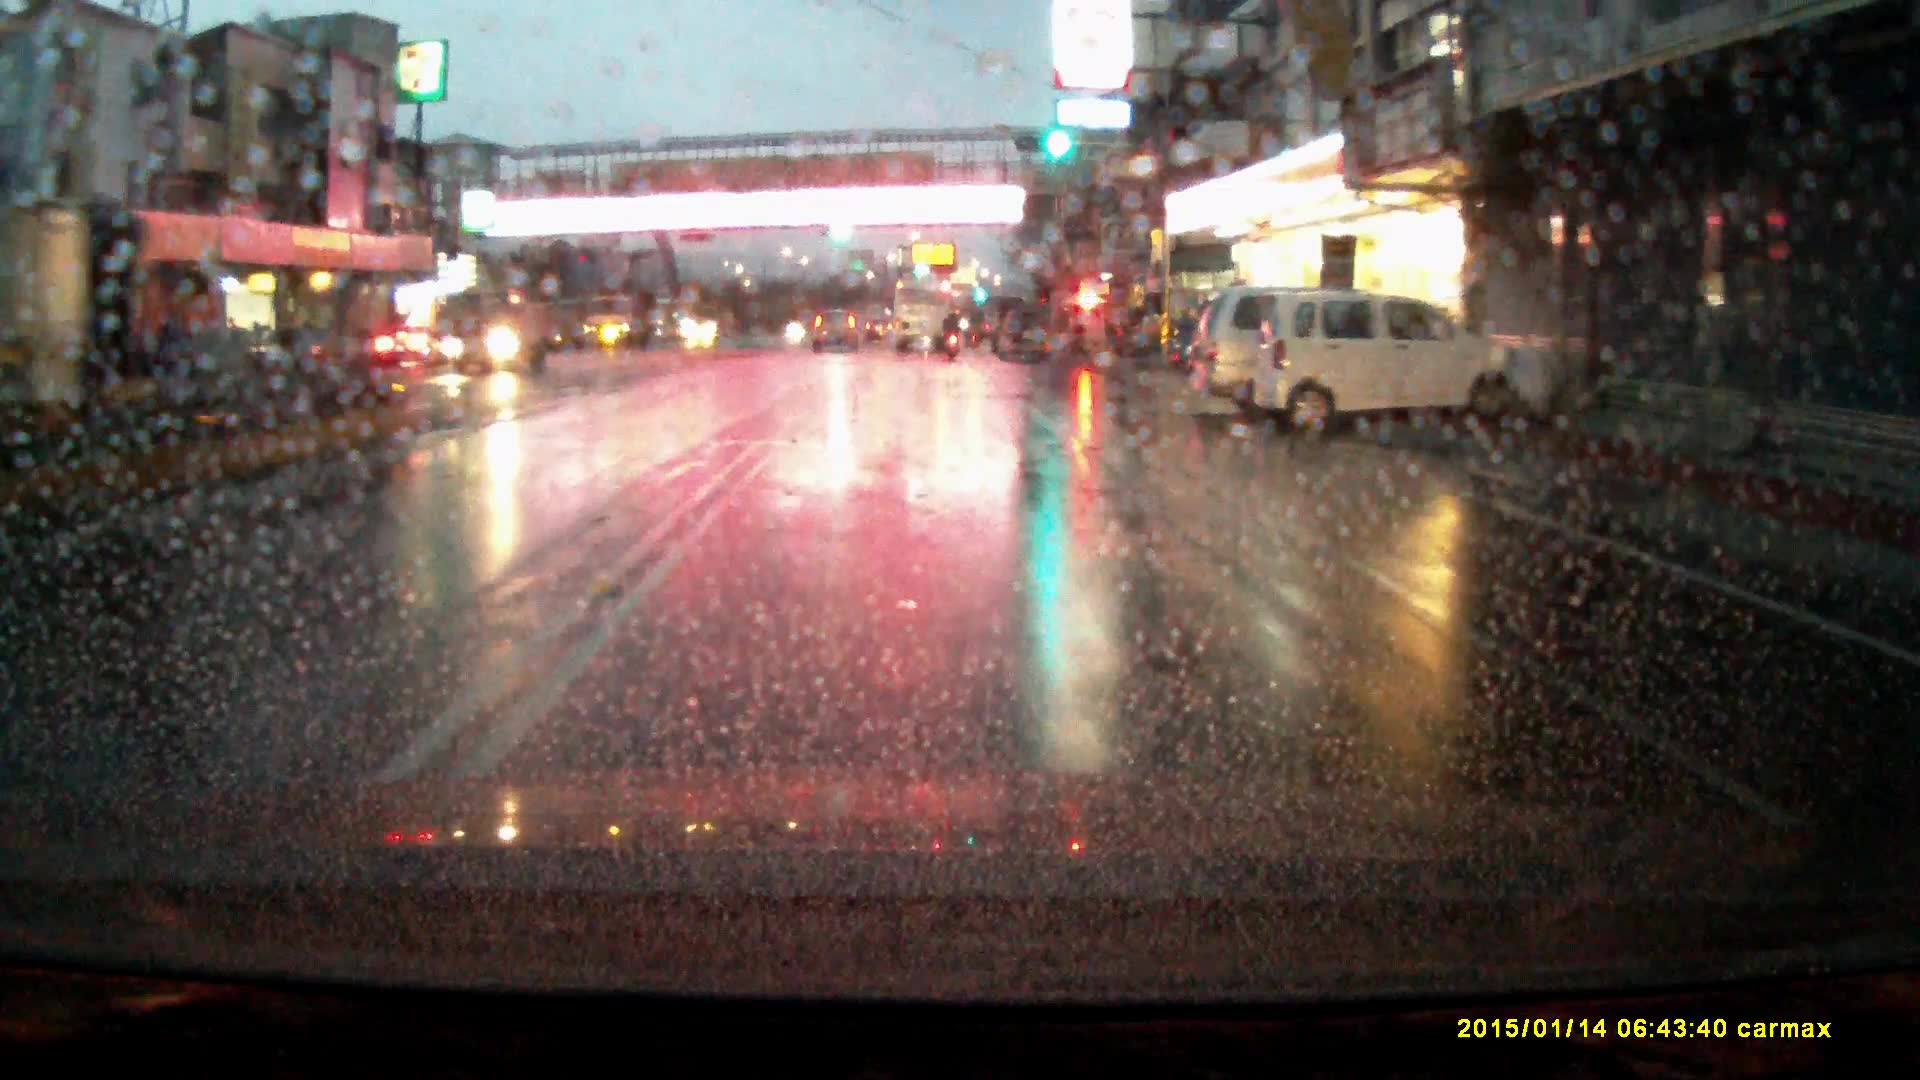rider: (942, 311, 963, 363)
vehicle: (1255, 293, 1554, 436), (1192, 288, 1365, 428), (441, 296, 548, 376), (248, 322, 357, 376), (895, 279, 952, 351), (581, 293, 652, 346), (995, 306, 1054, 364), (374, 326, 446, 370), (1110, 305, 1163, 360), (682, 298, 744, 344), (813, 304, 863, 352)
